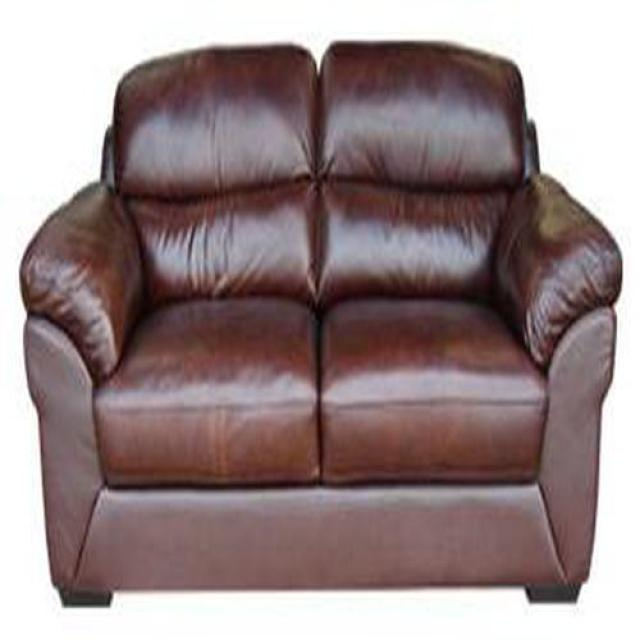sofa: (18, 40, 625, 612)
